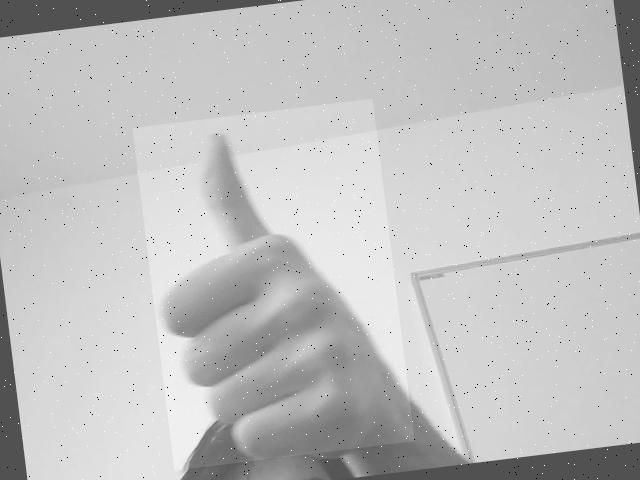good: (155, 116, 407, 457)
